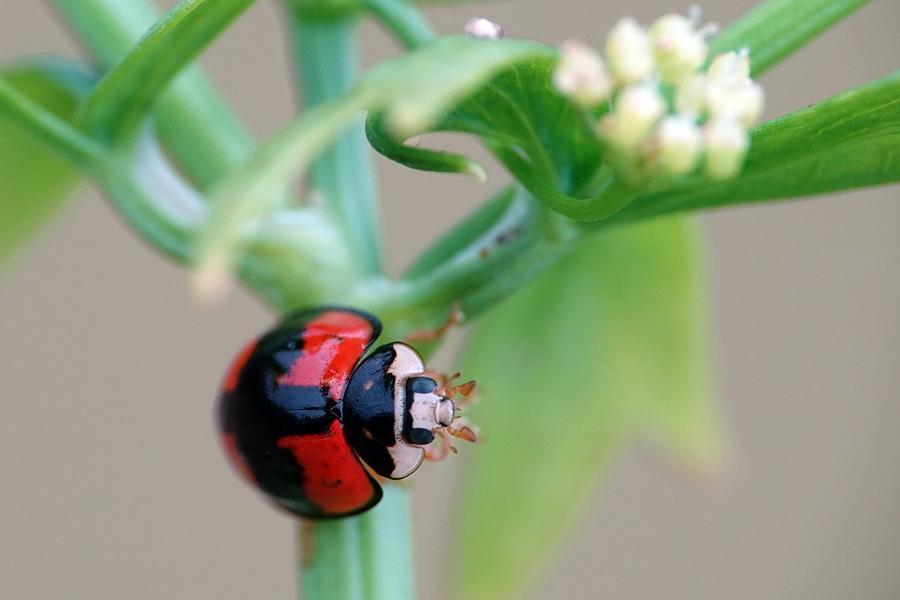ladybug: (218, 306, 486, 523)
